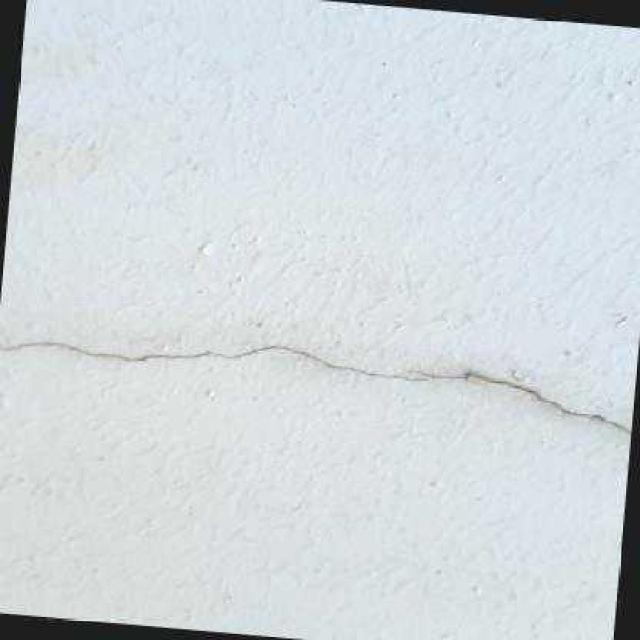D00: (0, 339, 426, 380), (401, 368, 632, 433)
